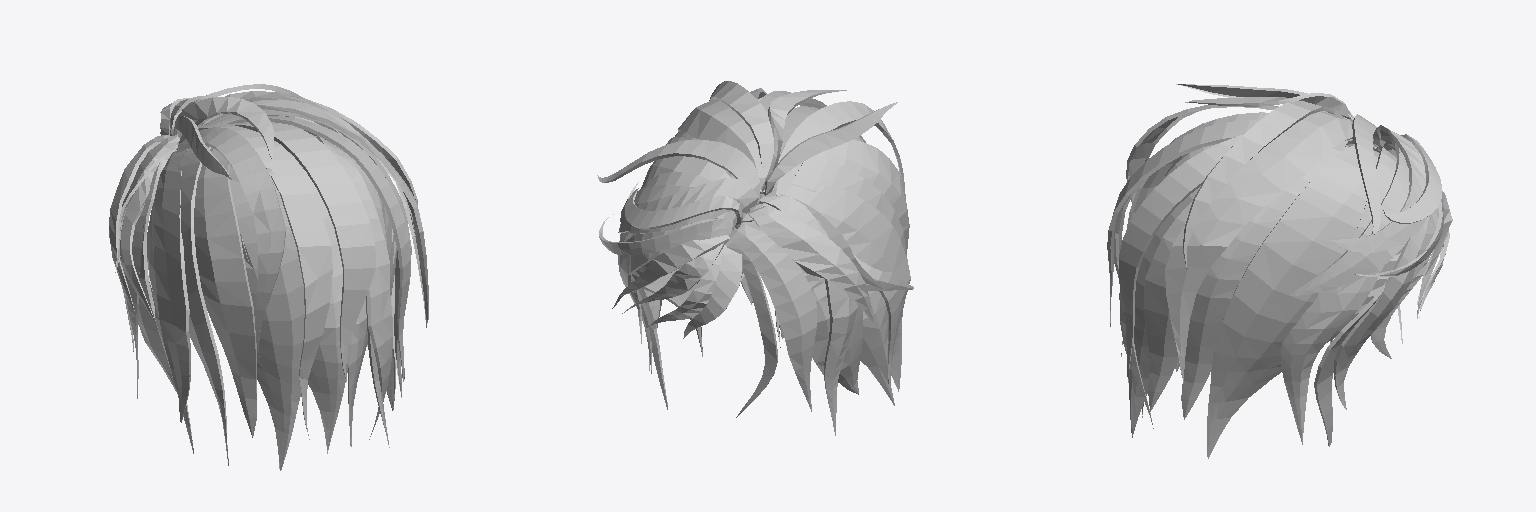
Rendered from rubberhair.obj.
The picture shows the model from 3 angles: view 1: azimuth 30°, elevation 25°; view 2: azimuth 150°, elevation 25°; view 3: azimuth 270°, elevation 25°; orthographic projection.
Parts seen in each view (by area): view 1: Rubberhair; view 2: Rubberhair; view 3: Rubberhair.
Part boxes in pixels (bbox=[...]): Rubberhair: bbox=[109, 84, 428, 470]; Rubberhair: bbox=[597, 81, 913, 435]; Rubberhair: bbox=[1107, 84, 1452, 458].
Bounding box in the file's own units: 17.89 × 20.73 × 20.63.